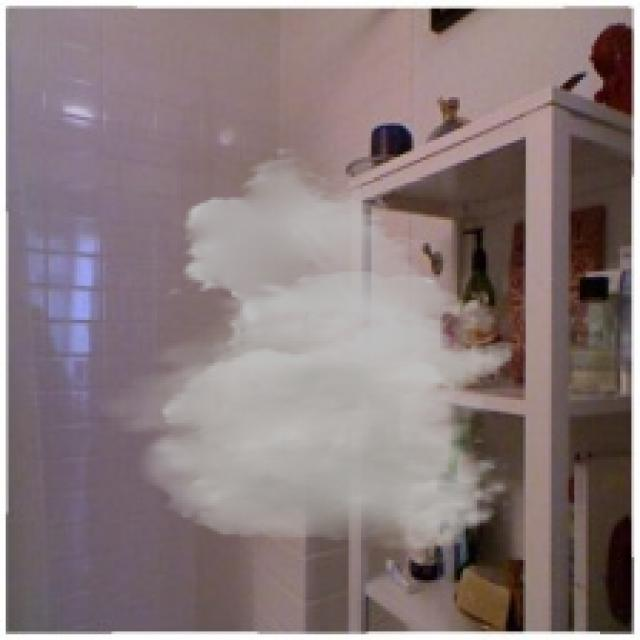smoke: (92, 146, 517, 551)
